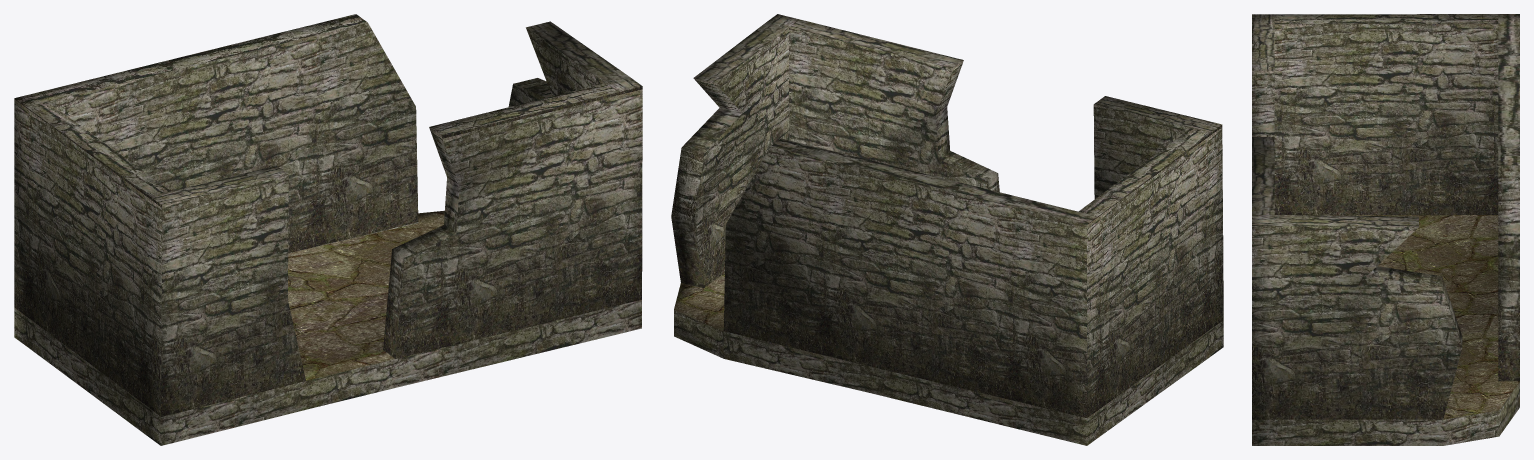
File: GS_MISC_RUINS_01_KWIATEK.glb
3 renders of one model, left to right at view 1: azimuth 30°, elevation 25°; view 2: azimuth 150°, elevation 25°; view 3: azimuth 270°, elevation 25°, orthographic. The views are drawn at different scales.
Parts seen in each view (by area): view 1: Mesh; view 2: Mesh; view 3: Mesh.
Boxes of the visible parts, <box> form: Mesh: <box>14,14,642,445</box>; Mesh: <box>671,14,1223,445</box>; Mesh: <box>1252,14,1519,445</box>.
Size of the model in its own units: 4.53 by 2.18 by 2.4.
Materials: 2 (2 with a texture image).
